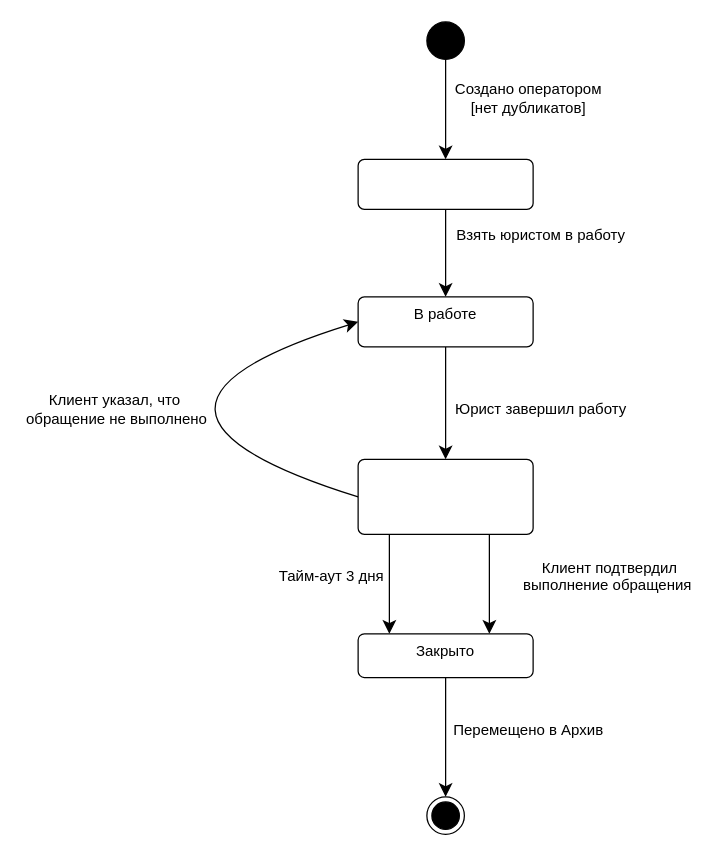
The diagram is 716 pixels wide and 856 high, and some of its shapes have lost their labels. Each missing label, with the centre of its shape:
Новое: the point at 445,183
Ожидает подтверждения выполнения: the point at 445,496
